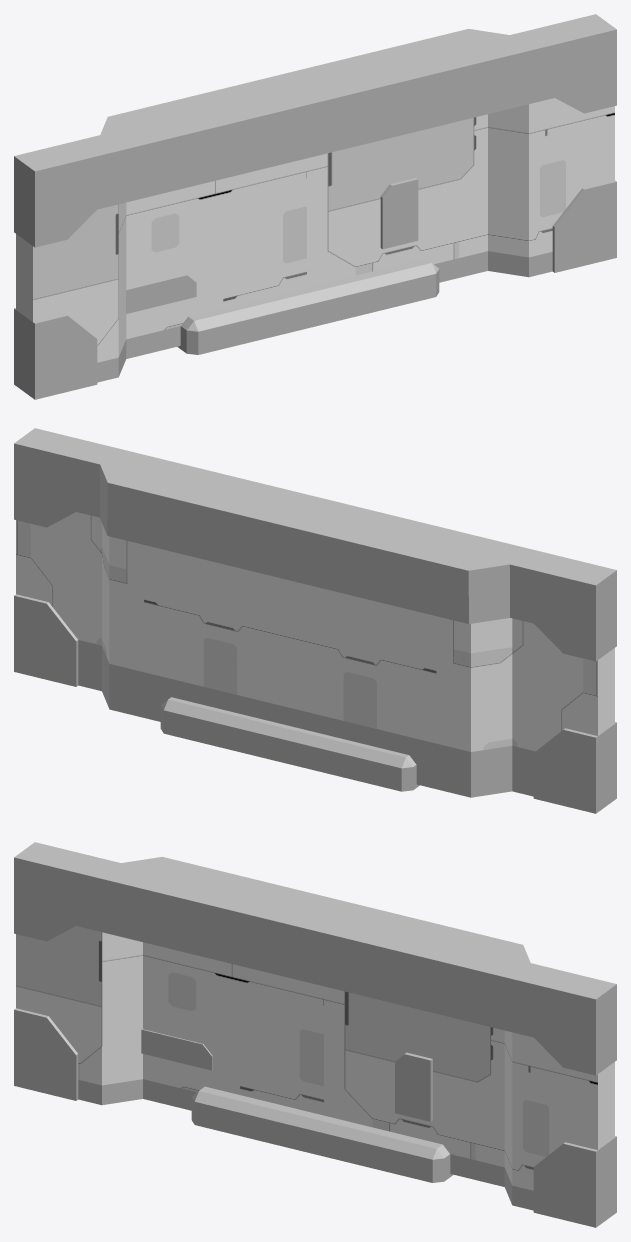
Rendered from SM_Wall_8x3_2.fbx.
3 views of the same model, one above another, from view 1: azimuth 30°, elevation 25°; view 2: azimuth 150°, elevation 25°; view 3: azimuth 330°, elevation 25° (orthographic).
Parts seen in each view (by area): view 1: SM_Wall_8x3_2; view 2: SM_Wall_8x3_2; view 3: SM_Wall_8x3_2.
Boxes of the visible parts, x1,y1,x2,y2 form: SM_Wall_8x3_2: (14, 14, 616, 399); SM_Wall_8x3_2: (14, 428, 616, 813); SM_Wall_8x3_2: (14, 842, 616, 1227).
Bounding box in the file's own units: 800 × 305 × 103.
